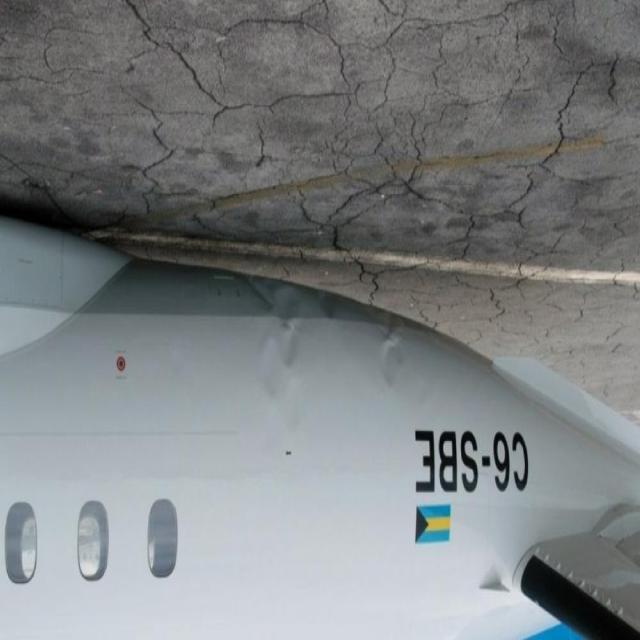dent: (257, 274, 407, 452)
